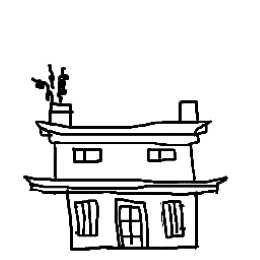bottom_placed_house: (0, 0, 258, 257)
chimney: (164, 90, 206, 131)
closed_window: (155, 196, 189, 240), (73, 197, 101, 241), (67, 146, 104, 168), (143, 147, 182, 164)
door: (111, 190, 156, 257)
roof: (18, 116, 226, 148)
smoking_chimney: (23, 61, 86, 135)
wall: (61, 179, 216, 255)
